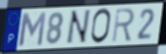2: (136, 7, 157, 41)
8: (46, 11, 65, 46)
M: (18, 11, 48, 47)
N: (64, 9, 92, 47)
O: (89, 8, 112, 45)
R: (111, 7, 136, 44)
